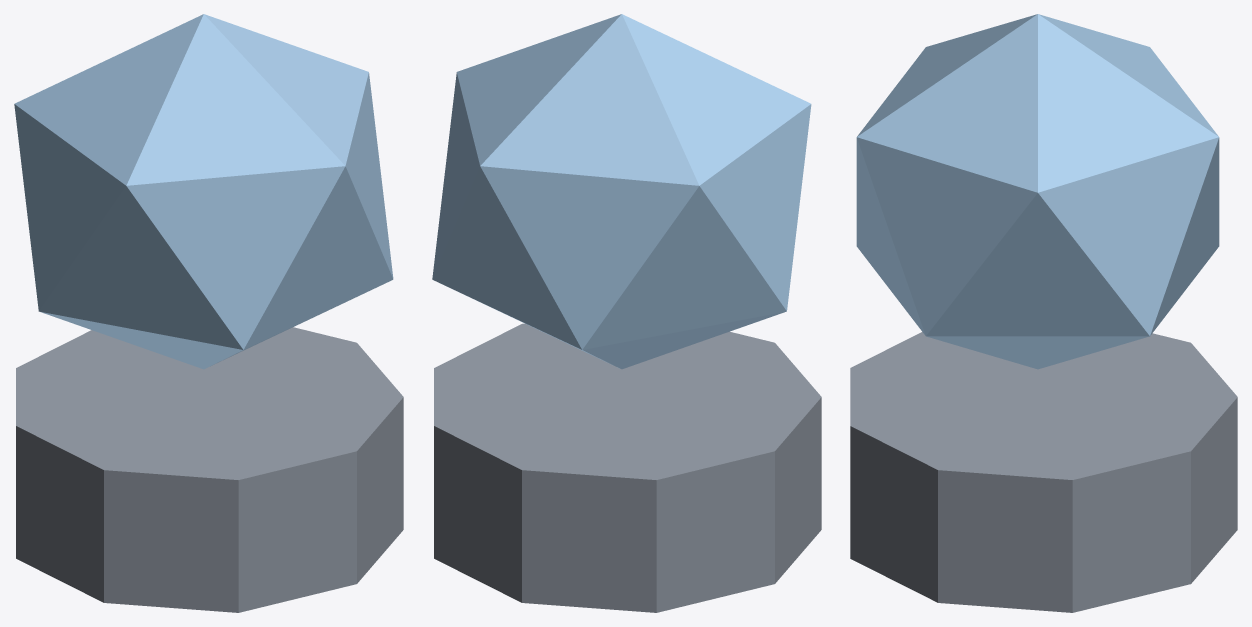
The model's file is mini_snow_globe.fbx.
The picture shows the model from 3 angles, left to right: view 1: azimuth 30°, elevation 25°; view 2: azimuth 150°, elevation 25°; view 3: azimuth 270°, elevation 25°; orthographic projection.
Parts seen in each view (by area): view 1: mini_snow_globe; view 2: mini_snow_globe; view 3: mini_snow_globe.
Part boxes in pixels (left/top/right/bottom): mini_snow_globe: left=14, top=14, right=403, bottom=612; mini_snow_globe: left=432, top=14, right=821, bottom=612; mini_snow_globe: left=850, top=14, right=1237, bottom=612.
Size of the model in its own units: 69.16 by 100 by 68.11.
